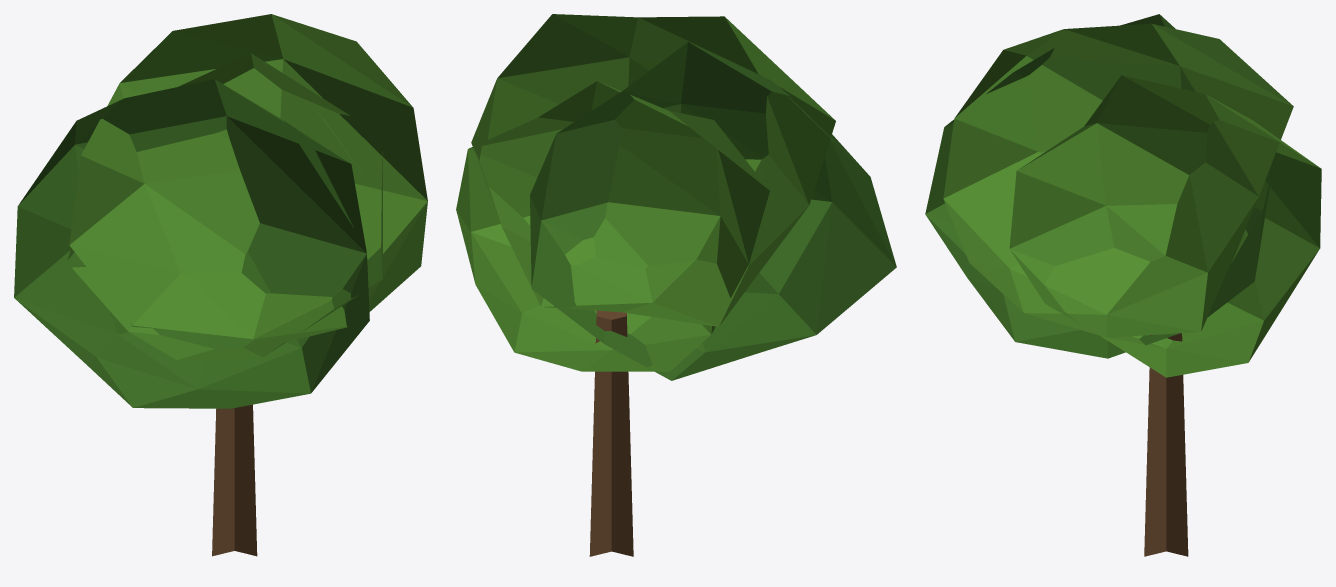
The model's file is tree-round-c.glb.
The picture shows the model from 3 angles, left to right: view 1: azimuth 30°, elevation 25°; view 2: azimuth 150°, elevation 25°; view 3: azimuth 270°, elevation 25°; orthographic projection. The views are drawn at different scales.
Visible parts, largest first — view 1: tree-round-c; view 2: tree-round-c; view 3: tree-round-c.
Boxes of the visible parts, x1=… form: tree-round-c: x1=14, y1=14, x2=427, y2=556; tree-round-c: x1=456, y1=14, x2=896, y2=556; tree-round-c: x1=925, y1=14, x2=1321, y2=556.
Size of the model in its own units: 3.73 by 5.01 by 3.42.
